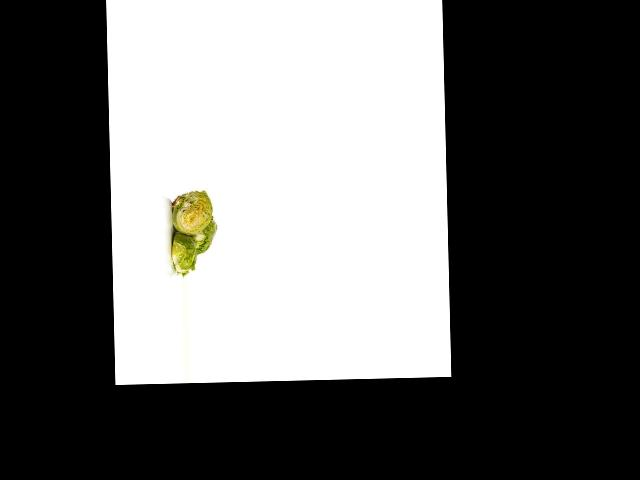lettuce: (187, 211, 219, 258)
